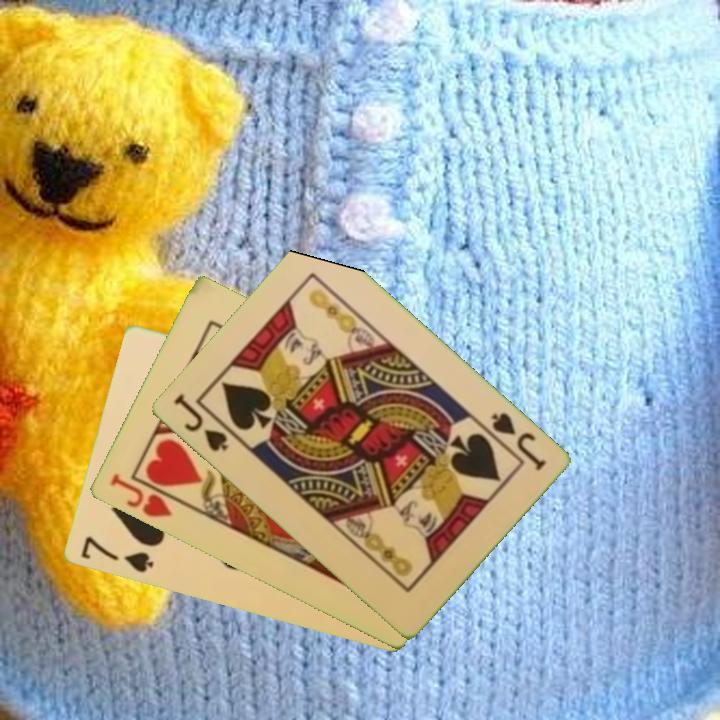7s: (77, 532, 156, 576)
Jh: (105, 469, 174, 521)
Js: (479, 409, 549, 474), (169, 390, 231, 455)
